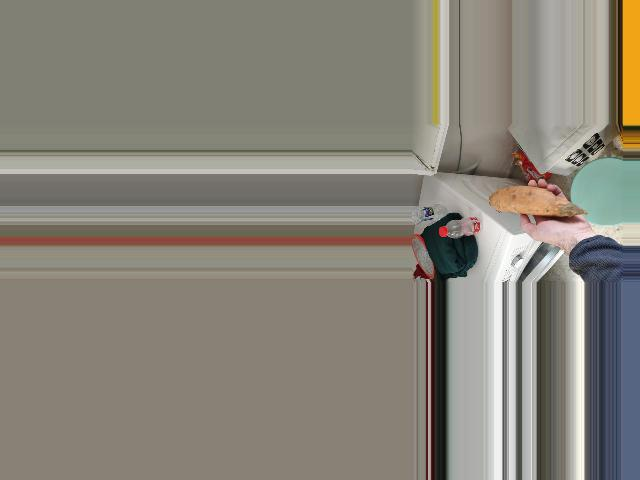sweet_potato: (492, 182, 597, 210)
